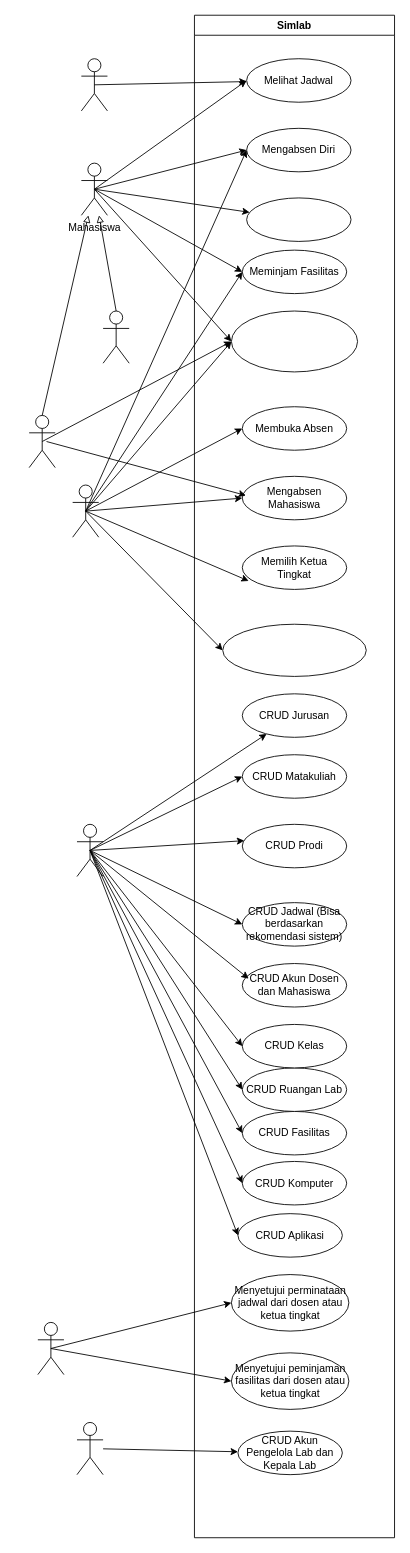
This 410x1553 diagram has some shape labels left out. Each missing label, with the centre of its shape:
"Admin" belongs at point (89, 1448).
"Asisten Lab" belongs at point (41, 441).
"Dosen" belongs at point (85, 510).
"Guest" belongs at point (93, 84).
"Kepala Lab" belongs at point (50, 1348).
"Ketua Tingkat" belongs at point (115, 336).
"Laboran" belongs at point (89, 850).
"Memilih Asisten Lab (Bisa berdasarkan rekomendasi sistem)" belongs at point (294, 649).
"Memilih/Meminta Jadwal (Bisa berdasarkan rekomendasi sistem)" belongs at point (294, 341).
"Mendaftarkan diri untuk menjadi Asisten Lab" belongs at point (298, 219).
